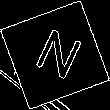N_SW: (26, 23, 84, 87)
